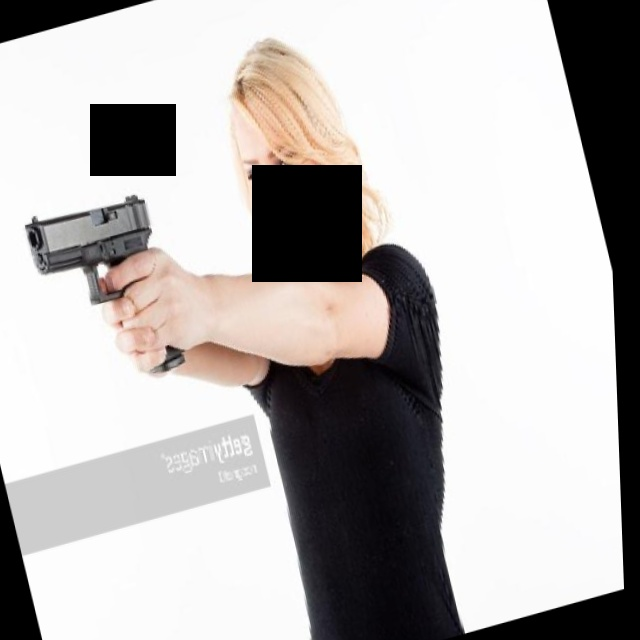gun: (19, 179, 194, 404)
